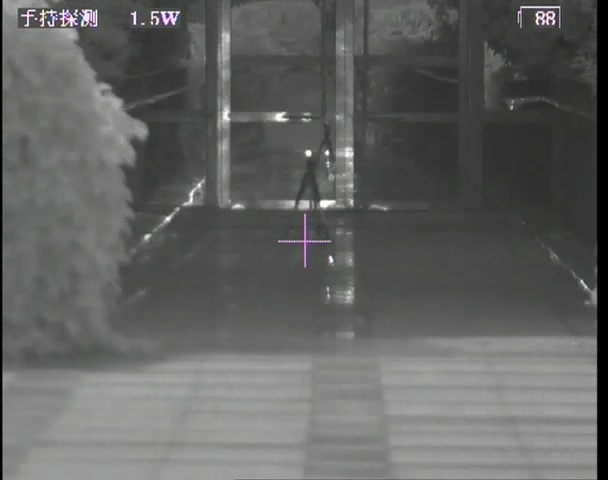my: (303, 148, 314, 160)
